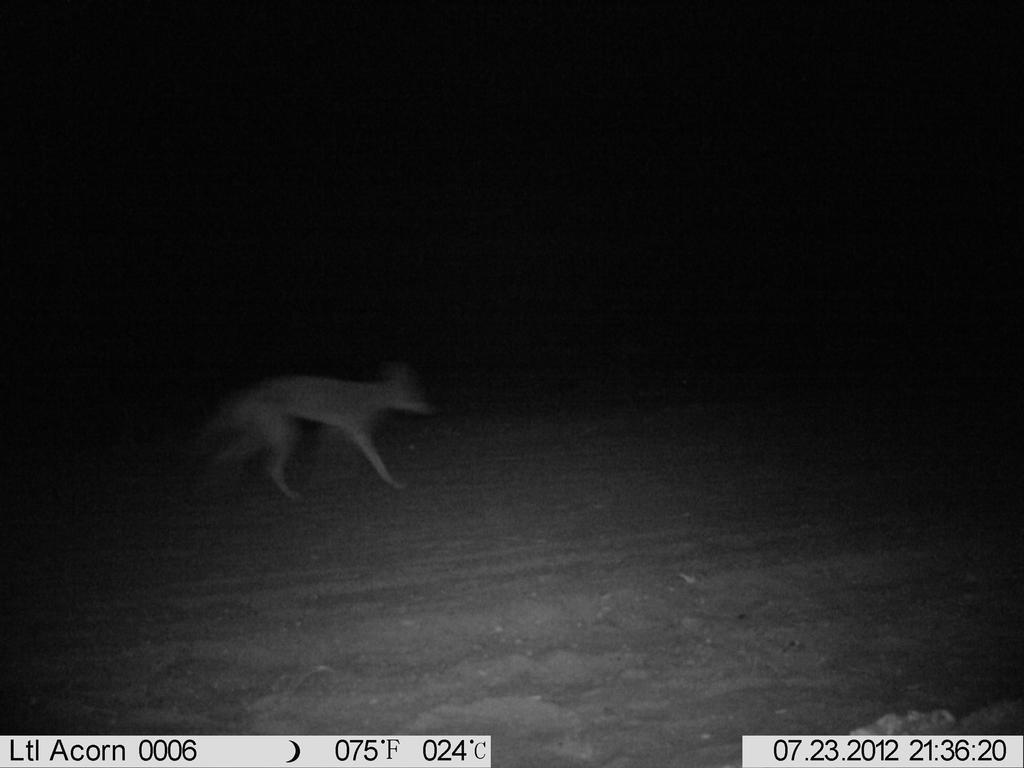coyote: (175, 340, 442, 513)
